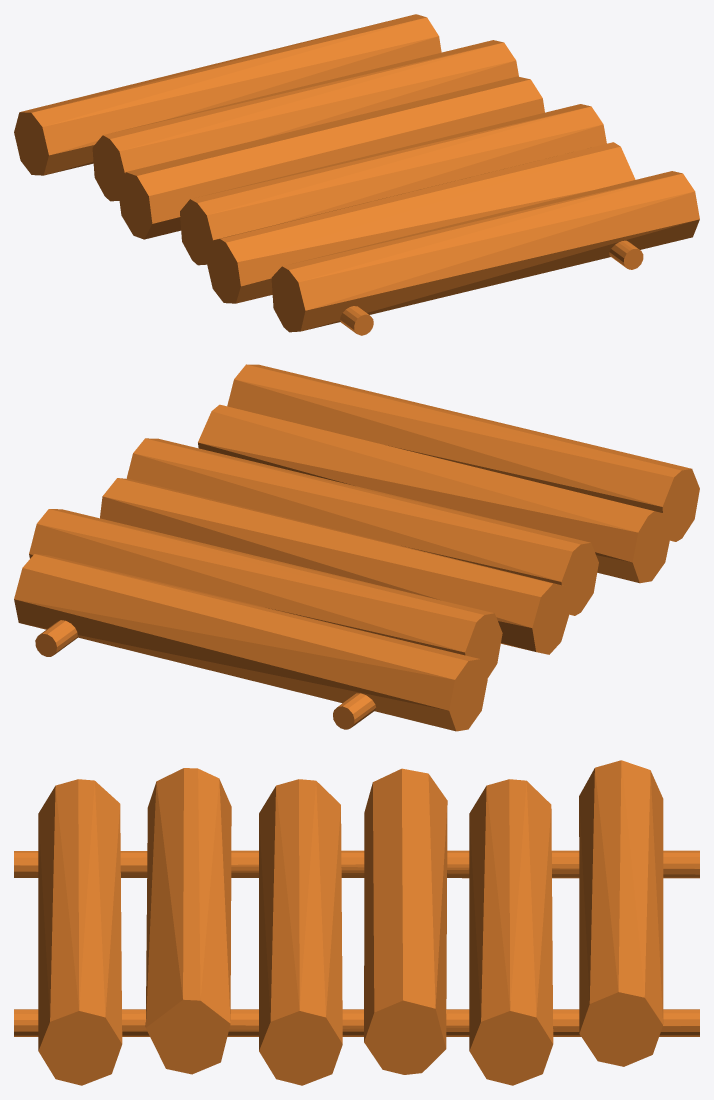
The model's file is bridge.fbx.
3 views of the same model, one above another, from view 1: azimuth 30°, elevation 25°; view 2: azimuth 150°, elevation 25°; view 3: azimuth 270°, elevation 25° (orthographic). The views are drawn at different scales.
Visible parts, largest first — view 1: Bridge; view 2: Bridge; view 3: Bridge.
Boxes of the visible parts, x1=… form: Bridge: x1=14, y1=14, x2=699, y2=335; Bridge: x1=14, y1=364, x2=699, y2=731; Bridge: x1=14, y1=760, x2=699, y2=1085.
Size of the model in its own units: 865 by 120 by 1000.
